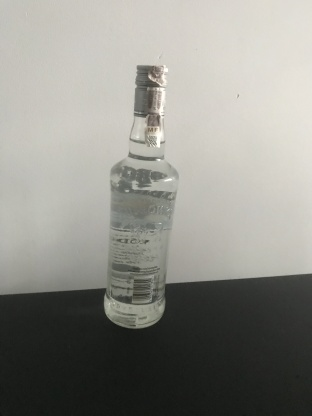nakretka: (132, 62, 169, 117)
